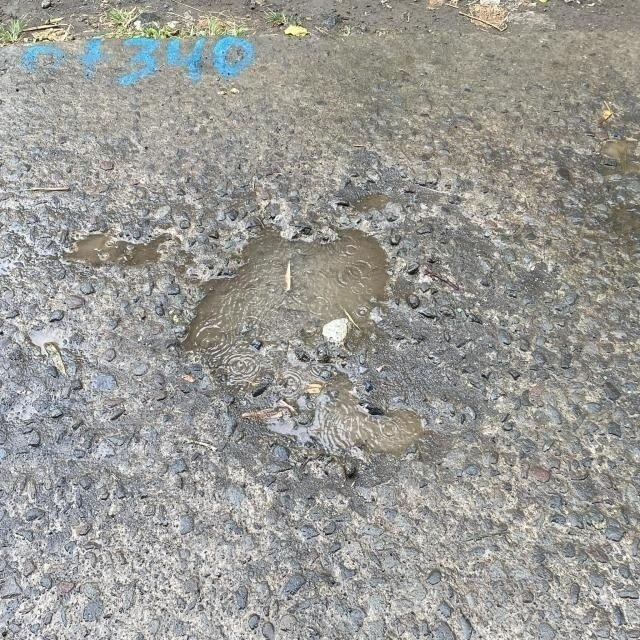pothole: (68, 179, 543, 541)
